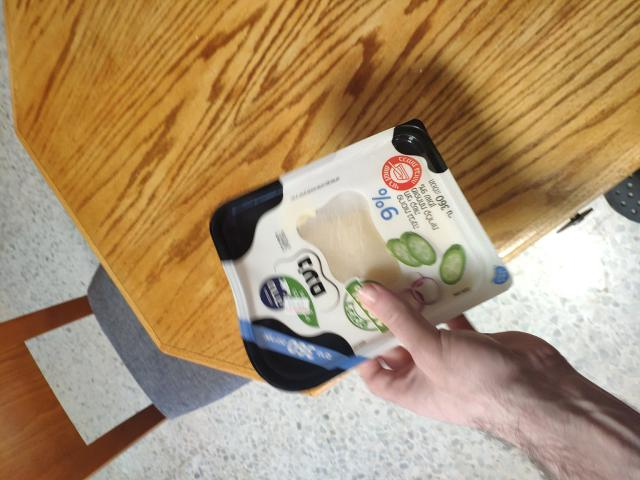cheese: (207, 134, 480, 407)
